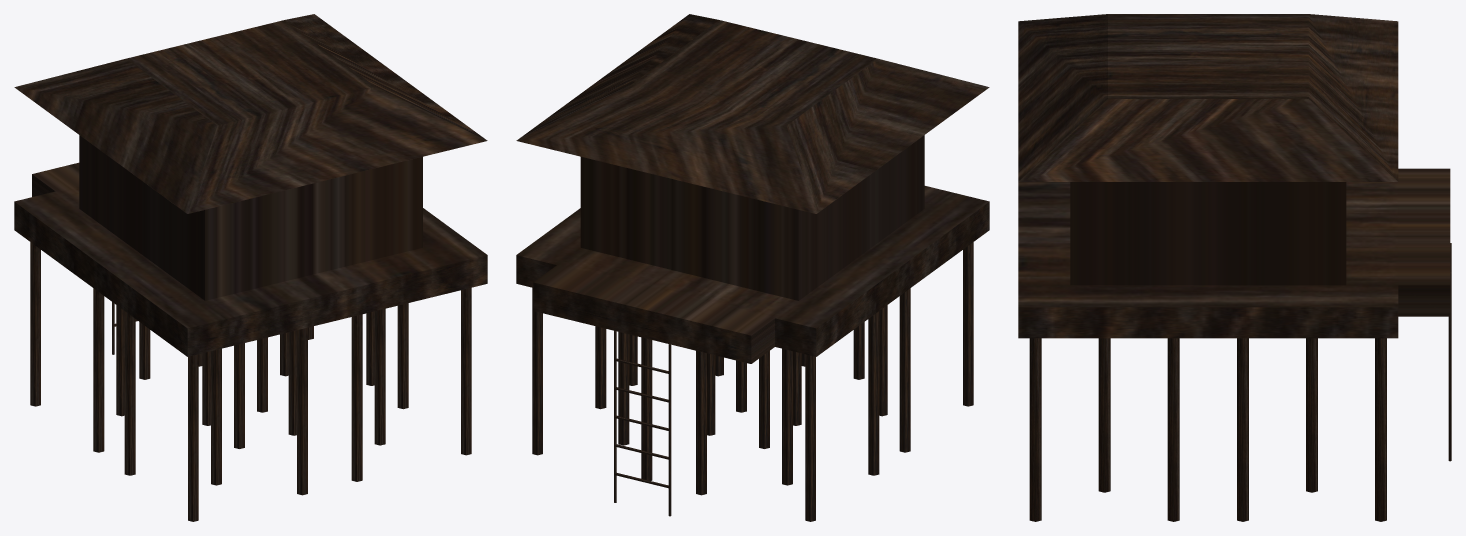
The model's file is beachHouse.fbx.
3 renders of one model, left to right at view 1: azimuth 30°, elevation 25°; view 2: azimuth 150°, elevation 25°; view 3: azimuth 270°, elevation 25°, orthographic. The views are drawn at different scales.
Parts seen in each view (by area): view 1: beachHouse; view 2: beachHouse; view 3: beachHouse.
Boxes of the visible parts, left/top/right/bottom form: beachHouse: left=14, top=14, right=487, bottom=521; beachHouse: left=516, top=14, right=989, bottom=521; beachHouse: left=1018, top=14, right=1451, bottom=521.
Size of the model in its own units: 11 by 12.44 by 12.54.
Materials: 1 (1 with a texture image).
